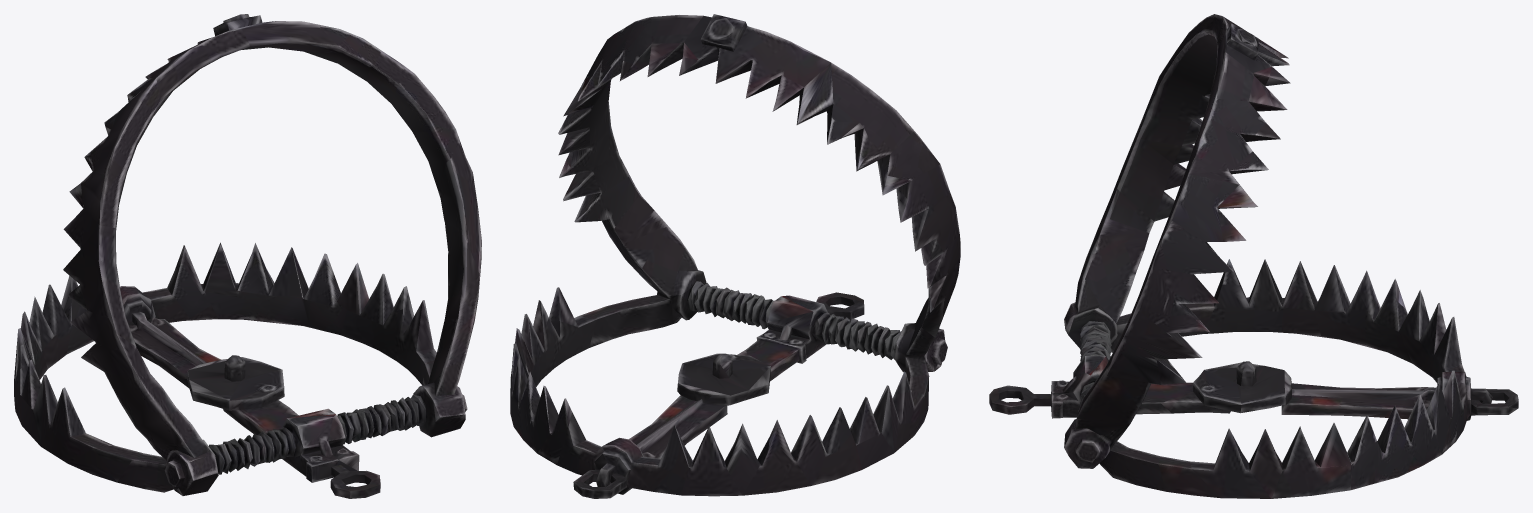
File: trap_bear_kapkan_idle.glb
3 renders of one model, left to right at view 1: azimuth 30°, elevation 25°; view 2: azimuth 150°, elevation 25°; view 3: azimuth 270°, elevation 25°, orthographic. The views are drawn at different scales.
Visible parts, largest first — view 1: tripo_node_caf74429-6420-41d0-ab7c-5b2075c12917; view 2: tripo_node_caf74429-6420-41d0-ab7c-5b2075c12917; view 3: tripo_node_caf74429-6420-41d0-ab7c-5b2075c12917.
Boxes of the visible parts, x1=… form: tripo_node_caf74429-6420-41d0-ab7c-5b2075c12917: x1=14, y1=14, x2=481, y2=498; tripo_node_caf74429-6420-41d0-ab7c-5b2075c12917: x1=510, y1=14, x2=960, y2=498; tripo_node_caf74429-6420-41d0-ab7c-5b2075c12917: x1=989, y1=14, x2=1518, y2=498.
Bounding box in the file's own units: 0.4002 × 0.4097 × 0.5003.
1 material, 1 textured.
